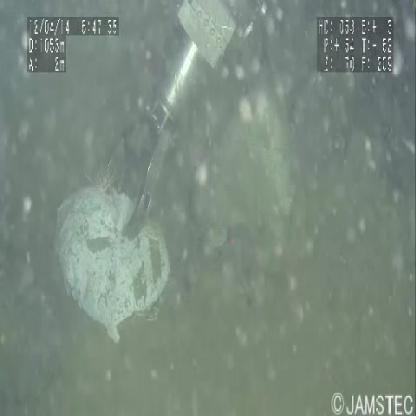Rác: (52, 168, 169, 350)
